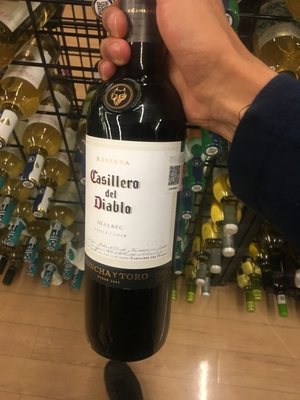casillero del diablo malbec: (68, 26, 190, 361)
